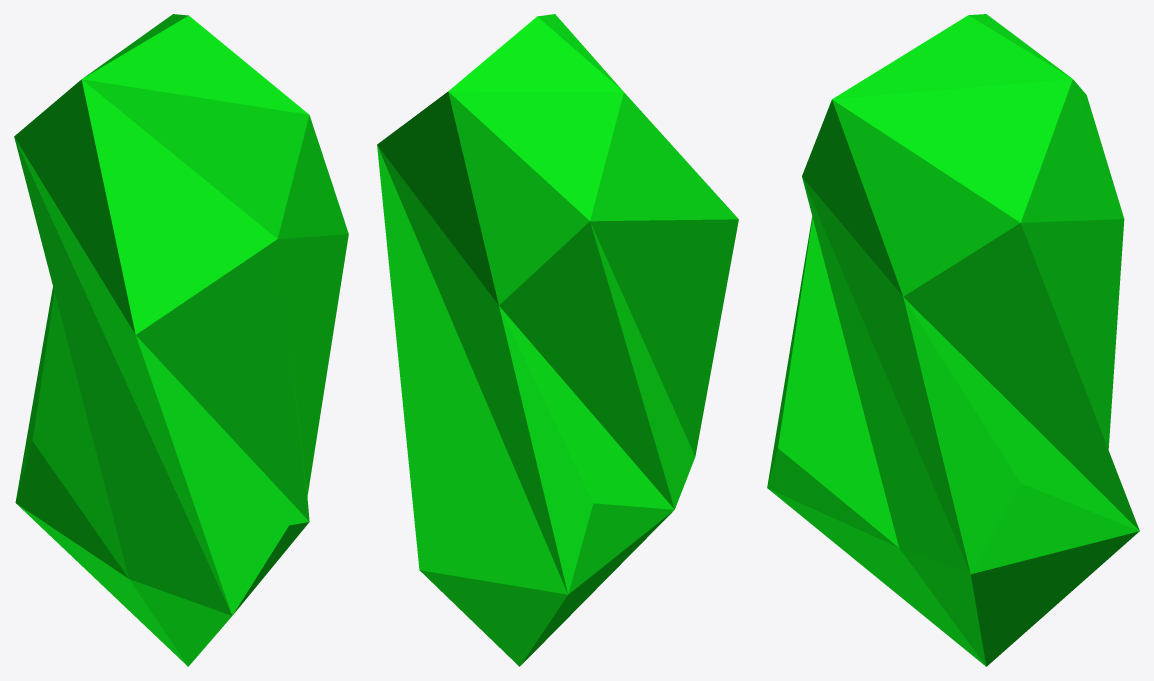
The model's file is Low Poly Trætop [Aflang med twist].FBX.
The picture shows the model from 3 angles, left to right: view 1: azimuth 30°, elevation 25°; view 2: azimuth 150°, elevation 25°; view 3: azimuth 270°, elevation 25°; orthographic projection. The views are drawn at different scales.
Parts seen in each view (by area): view 1: GeoSphere001; view 2: GeoSphere001; view 3: GeoSphere001.
Part boxes in pixels (x1,y1,x2,y2): GeoSphere001: (14, 14, 348, 666); GeoSphere001: (377, 14, 738, 666); GeoSphere001: (767, 14, 1139, 666).
Size of the model in its own units: 204 by 483 by 252.
